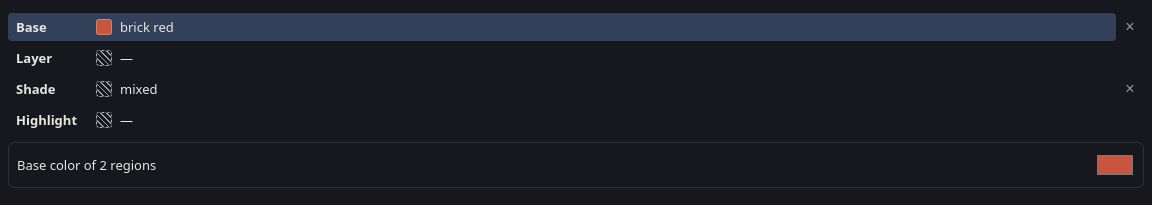
Test case: PaintStepPicker › with several regions › shows a shared paint, and "mixed" with the hatched swatch where the regions differ
Expected: the colour field labelled "Base color of 2 regions" holds "#c8553d", 1095,151 -> 1135,179
Click the button "Shade mixed": x=36, y=89 8,75 -> 1116,103
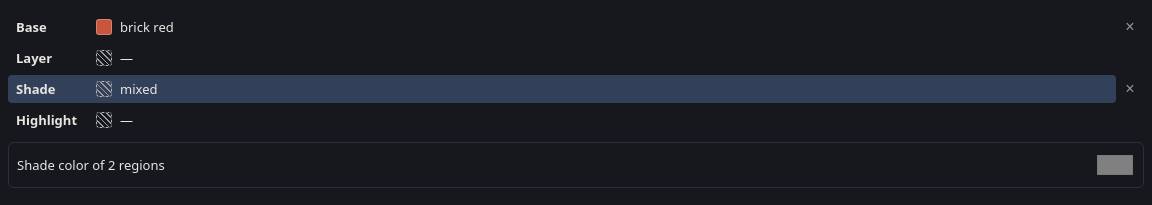
Expected: the colour field labelled "Shade color of 2 regions" holds "#808080", 1095,151 -> 1135,179
